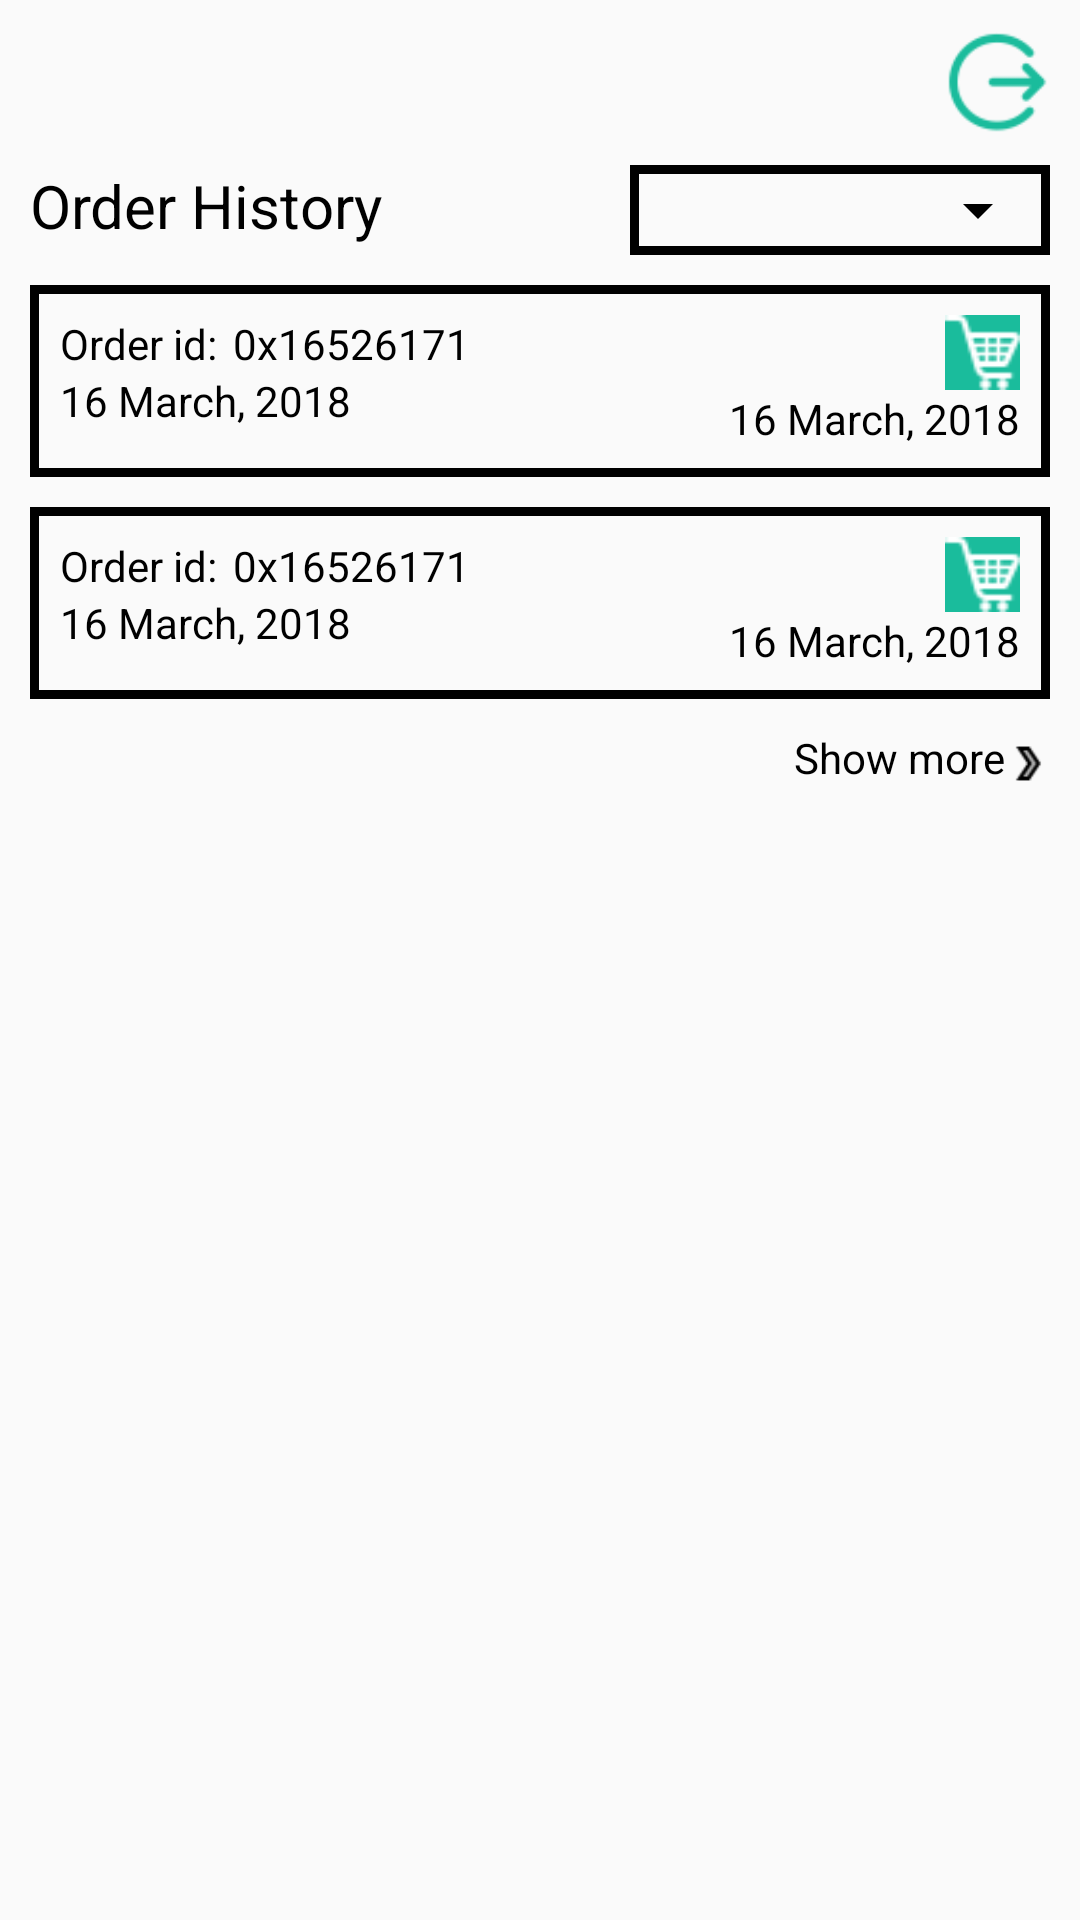

Icons on this 1080*1920 Android screen, each with the point to tap as (x=x, y=y):
cartback: (x=982, y=352), (x=982, y=574)
rightaar: (x=1028, y=763)
